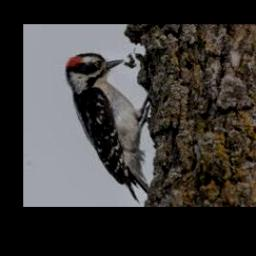Woodpecker: (64, 53, 151, 205)
